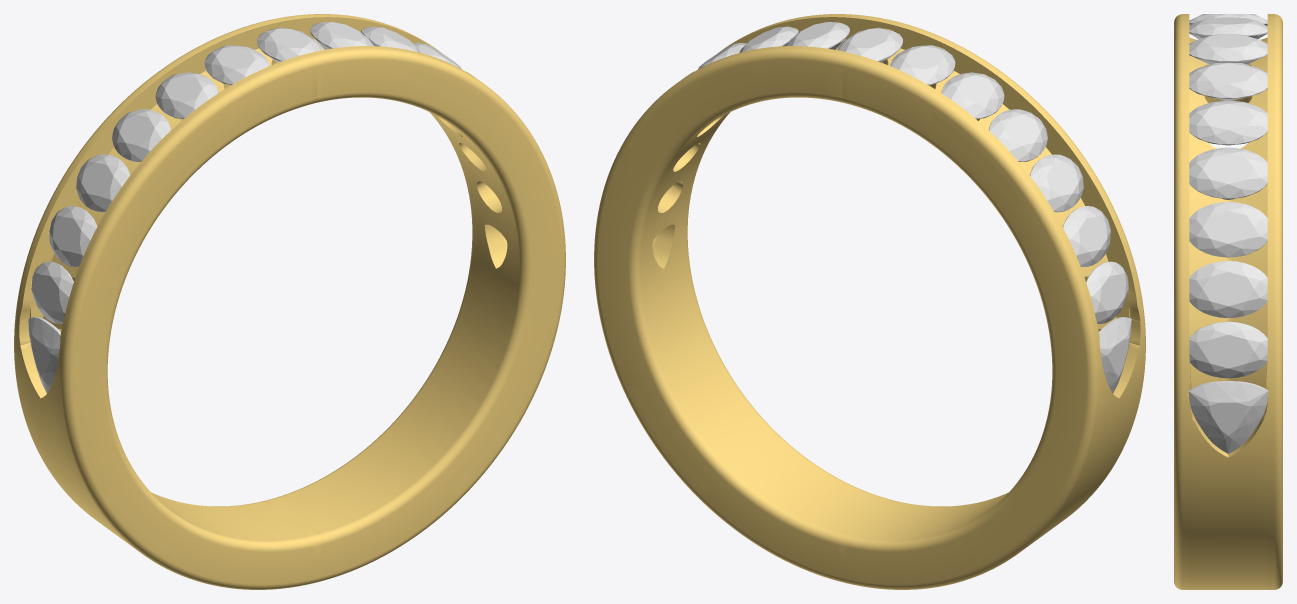
File: AlexNovalYG_blender.glb
3 renders of one model, left to right at view 1: azimuth 30°, elevation 25°; view 2: azimuth 150°, elevation 25°; view 3: azimuth 270°, elevation 25°, orthographic.
Parts seen in each view (by area): view 1: Alex oval YG for 3d model, Alex oval dia for 3d model.012, Alex oval dia for 3d model.011, Alex oval dia for 3d model.013, Alex oval dia for 3d model.010, Alex oval dia for 3d model.014, Alex oval dia for 3d model.009, Alex oval dia for 3d model.001, Alex oval dia for 3d model.008, Alex oval dia for 3d model.007, Alex oval dia for 3d model.006; view 2: Alex oval YG for 3d model, Alex oval dia for 3d model.012, Alex oval dia for 3d model.011, Alex oval dia for 3d model.013, Alex oval dia for 3d model.010, Alex oval dia for 3d model.014, Alex oval dia for 3d model.009, Alex oval dia for 3d model.001, Alex oval dia for 3d model.008, Alex oval dia for 3d model.007, Alex oval dia for 3d model.006; view 3: Alex oval YG for 3d model, Alex oval dia for 3d model, Alex oval dia for 3d model.003, Alex oval dia for 3d model.002, Alex oval dia for 3d model.004, Alex oval dia for 3d model.005, Alex oval dia for 3d model.006, Alex oval dia for 3d model.007, Alex oval dia for 3d model.008, Alex oval dia for 3d model.009, Alex oval dia for 3d model.010.
Boxes of the visible parts, left/top/right/bottom form: Alex oval YG for 3d model: left=14, top=14, right=565, bottom=589; Alex oval dia for 3d model.012: left=76, top=154, right=130, bottom=212; Alex oval dia for 3d model.011: left=112, top=109, right=171, bottom=161; Alex oval dia for 3d model.013: left=49, top=206, right=97, bottom=266; Alex oval dia for 3d model.010: left=155, top=72, right=218, bottom=119; Alex oval dia for 3d model.014: left=31, top=261, right=73, bottom=323; Alex oval dia for 3d model.009: left=204, top=45, right=269, bottom=85; Alex oval dia for 3d model.001: left=28, top=317, right=60, bottom=393; Alex oval dia for 3d model.008: left=257, top=27, right=322, bottom=62; Alex oval dia for 3d model.007: left=310, top=22, right=373, bottom=49; Alex oval dia for 3d model.006: left=361, top=26, right=420, bottom=52; Alex oval YG for 3d model: left=594, top=14, right=1145, bottom=589; Alex oval dia for 3d model.012: left=1029, top=154, right=1083, bottom=212; Alex oval dia for 3d model.011: left=989, top=109, right=1047, bottom=161; Alex oval dia for 3d model.013: left=1062, top=206, right=1110, bottom=266; Alex oval dia for 3d model.010: left=941, top=72, right=1004, bottom=119; Alex oval dia for 3d model.014: left=1086, top=261, right=1128, bottom=323; Alex oval dia for 3d model.009: left=890, top=45, right=955, bottom=85; Alex oval dia for 3d model.001: left=1099, top=317, right=1131, bottom=393; Alex oval dia for 3d model.008: left=837, top=27, right=902, bottom=62; Alex oval dia for 3d model.007: left=786, top=22, right=849, bottom=49; Alex oval dia for 3d model.006: left=739, top=26, right=798, bottom=52; Alex oval YG for 3d model: left=1174, top=14, right=1282, bottom=589; Alex oval dia for 3d model: left=1189, top=381, right=1267, bottom=453; Alex oval dia for 3d model.003: left=1189, top=261, right=1267, bottom=318; Alex oval dia for 3d model.002: left=1189, top=321, right=1267, bottom=378; Alex oval dia for 3d model.004: left=1189, top=202, right=1267, bottom=257; Alex oval dia for 3d model.005: left=1189, top=147, right=1267, bottom=198; Alex oval dia for 3d model.006: left=1189, top=100, right=1267, bottom=145; Alex oval dia for 3d model.007: left=1189, top=63, right=1267, bottom=100; Alex oval dia for 3d model.008: left=1189, top=33, right=1267, bottom=64; Alex oval dia for 3d model.009: left=1189, top=17, right=1267, bottom=39; Alex oval dia for 3d model.010: left=1189, top=14, right=1267, bottom=26.
Bounding box in the file's own units: 20.1 × 20.1 × 3.8.
